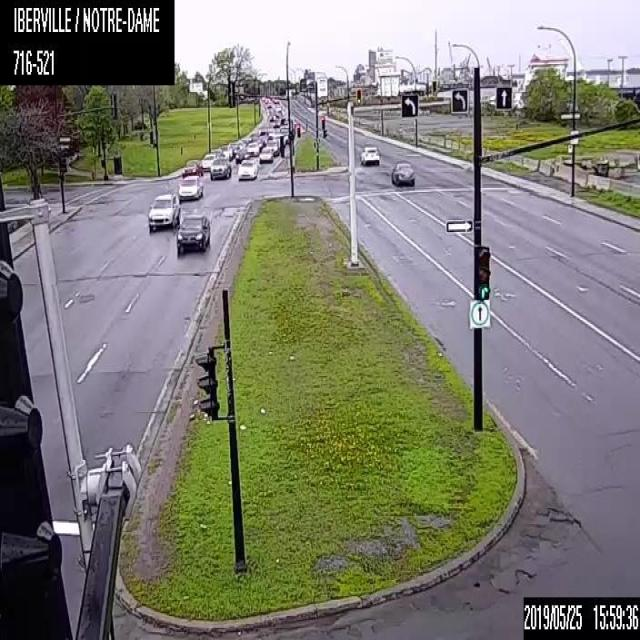vehicle: (176, 212, 209, 249), (148, 193, 180, 229), (176, 174, 202, 199), (390, 159, 415, 185), (210, 156, 231, 178), (237, 158, 257, 179), (359, 144, 380, 164), (181, 158, 202, 175), (201, 152, 217, 171), (234, 148, 249, 163), (259, 146, 273, 161), (219, 144, 233, 158), (266, 139, 278, 154), (246, 142, 259, 154), (210, 148, 224, 156)
